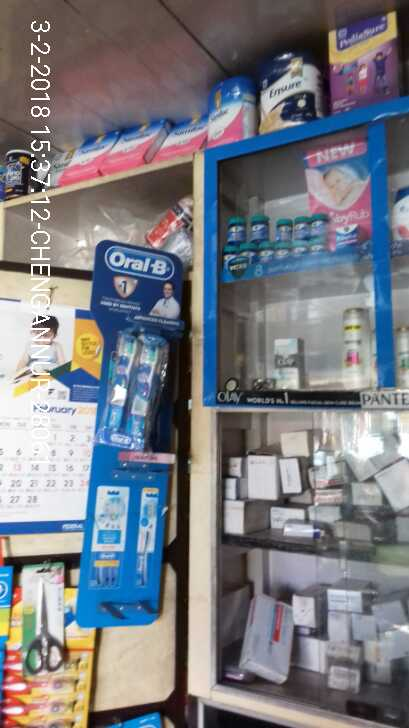beauty: (340, 305, 371, 389), (273, 337, 300, 389)
oralb: (133, 332, 163, 451), (108, 329, 138, 434)
pharmacy: (224, 213, 247, 245), (249, 211, 272, 243), (310, 211, 331, 238), (292, 214, 311, 241), (273, 216, 293, 240)
